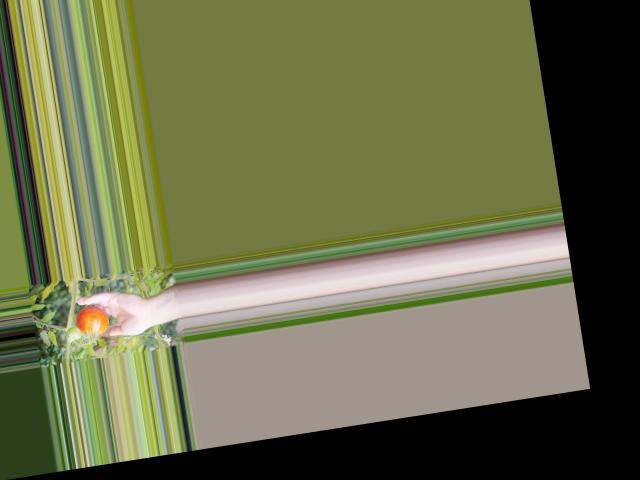tomato: (73, 304, 111, 337)
